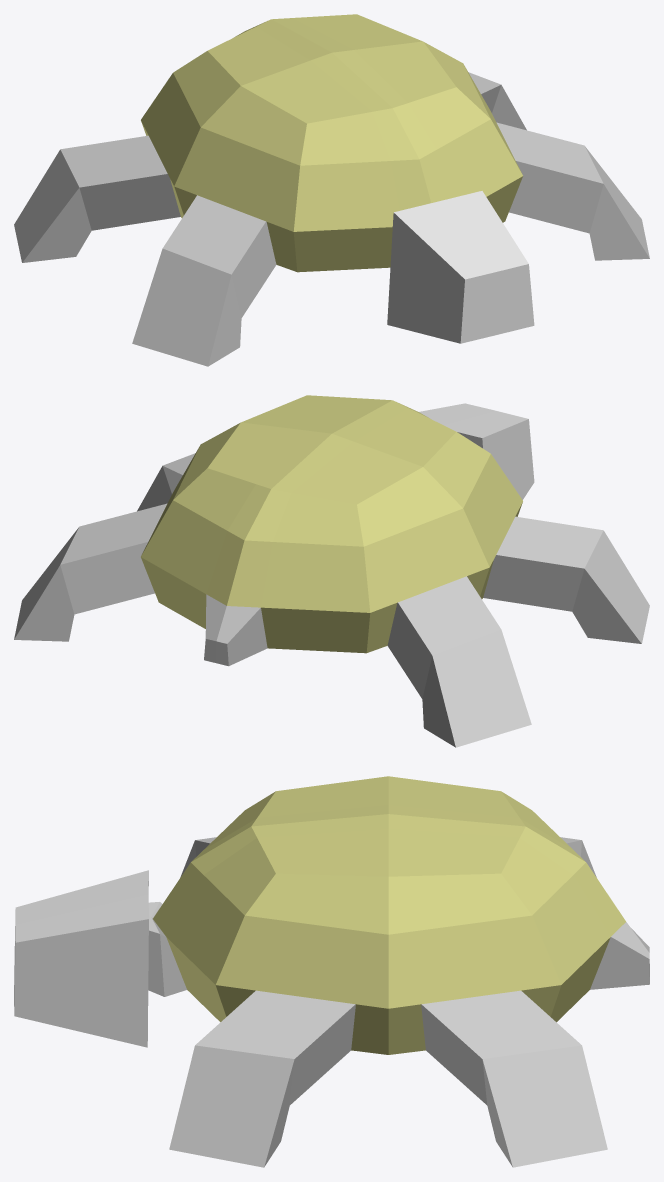
File: Lightutle.fbx
The picture shows the model from 3 angles, top to bottom: view 1: azimuth 30°, elevation 25°; view 2: azimuth 150°, elevation 25°; view 3: azimuth 270°, elevation 25°; orthographic projection. The views are drawn at different scales.
Visible parts, largest first — view 1: Cube; view 2: Cube; view 3: Cube.
Boxes of the visible parts, left/top/right/bottom form: Cube: left=14, top=14, right=649, bottom=366; Cube: left=14, top=395, right=649, bottom=747; Cube: left=14, top=776, right=649, bottom=1167.
Bounding box in the file's own units: 620 × 220 × 593.
